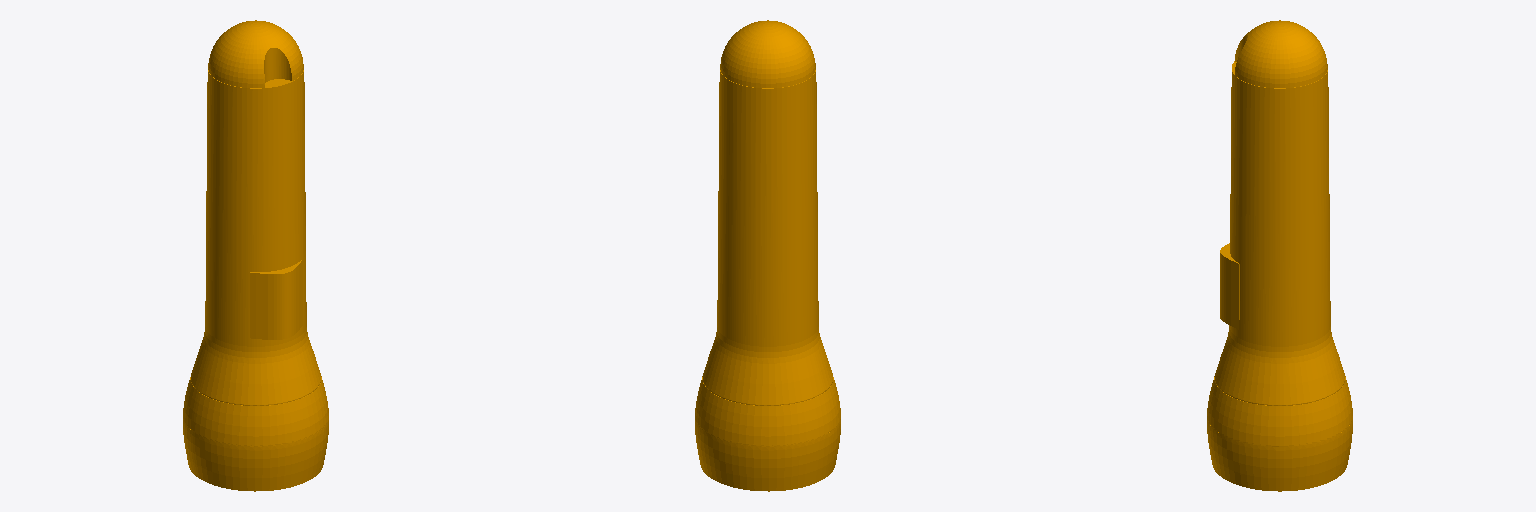
The robot description file, URDF, robot "flashlight":
<?xml version="1.0"?>
<!-- GENERATED from flashlight.yaml by `object_models generate`. Do not edit. -->
<!-- status: provisional. Body frame = CAD frame of flashlight.yaml. -->
<robot name="flashlight">
  <link name="flashlight">
    <visual>
      <geometry>
        <mesh filename="package://irb120_models/objects/flashlight/meshes/flashlight.stl"/>
      </geometry>
    </visual>
    <collision>
      <geometry>
        <mesh filename="package://irb120_models/objects/flashlight/meshes/flashlight.stl"/>
      </geometry>
    </collision>
  </link>
</robot>

--- Facts derived from the render (not from the file) ---
3 views of the same robot in one strip: view 1: azimuth 30°, elevation 25°; view 2: azimuth 150°, elevation 25°; view 3: azimuth 270°, elevation 25° (orthographic).
Model flashlight with 1 links and 0 joints (none), rooted at flashlight, posed all joints at 0.
Visible links, largest first — view 1: flashlight; view 2: flashlight; view 3: flashlight.
Boxes of the visible links, box(x1,y1,x2,y2) form: flashlight: box(183, 20, 328, 491); flashlight: box(695, 20, 840, 491); flashlight: box(1207, 20, 1352, 491).
Bounding box of the posed robot: 0.0606 × 0.0606 × 0.1998 m (x, y, z).
1 mesh visuals loaded from 1 distinct referenced files (1 binary STL).
